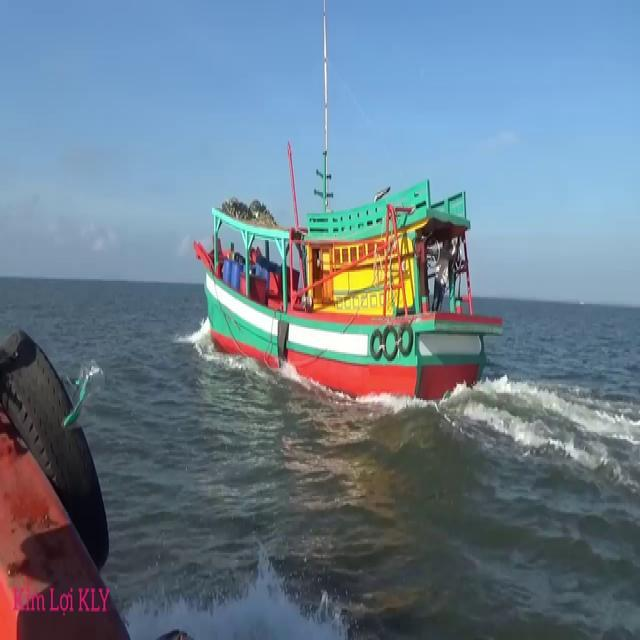Ship: (186, 160, 508, 420)
